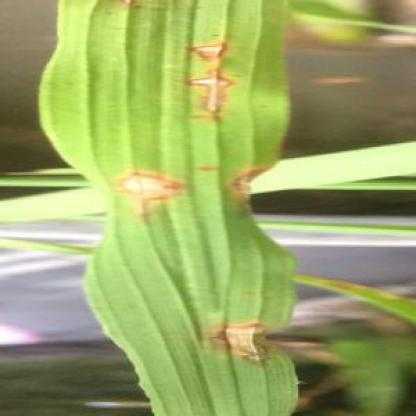Rice blast: (184, 28, 246, 132), (116, 159, 190, 212), (198, 323, 284, 362), (237, 161, 266, 215)
